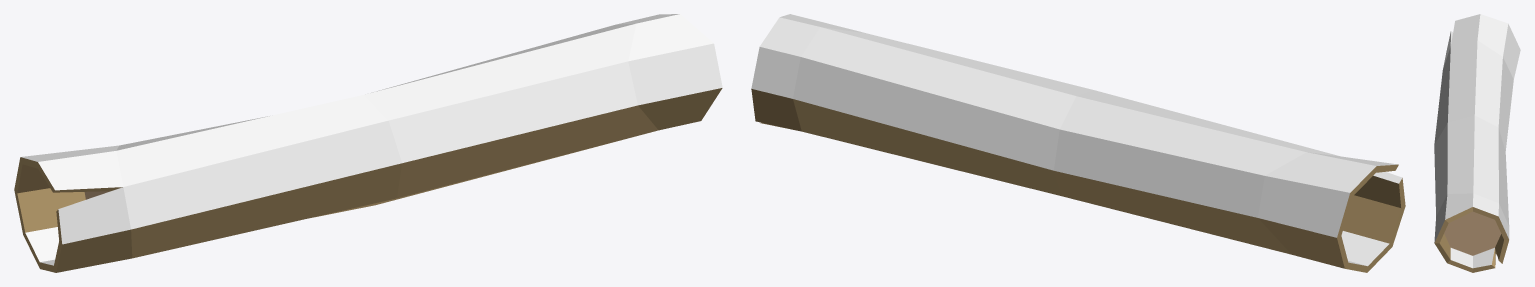
Rendered from Acacia_Log_Snow_07_LOD.fbx.
3 views of the same model, side by side, from view 1: azimuth 30°, elevation 25°; view 2: azimuth 150°, elevation 25°; view 3: azimuth 270°, elevation 25° (orthographic). The views are drawn at different scales.
Parts seen in each view (by area): view 1: Acacia_Log_Snow_07_LOD0; view 2: Acacia_Log_Snow_07_LOD0; view 3: Acacia_Log_Snow_07_LOD0.
Part boxes in pixels (box(x1,y1,x2,y2)): Acacia_Log_Snow_07_LOD0: box(14, 14, 722, 272); Acacia_Log_Snow_07_LOD0: box(751, 14, 1405, 272); Acacia_Log_Snow_07_LOD0: box(1434, 14, 1520, 272).
Size of what is drawn, in the model's own units: 249 by 41.45 by 46.45.
